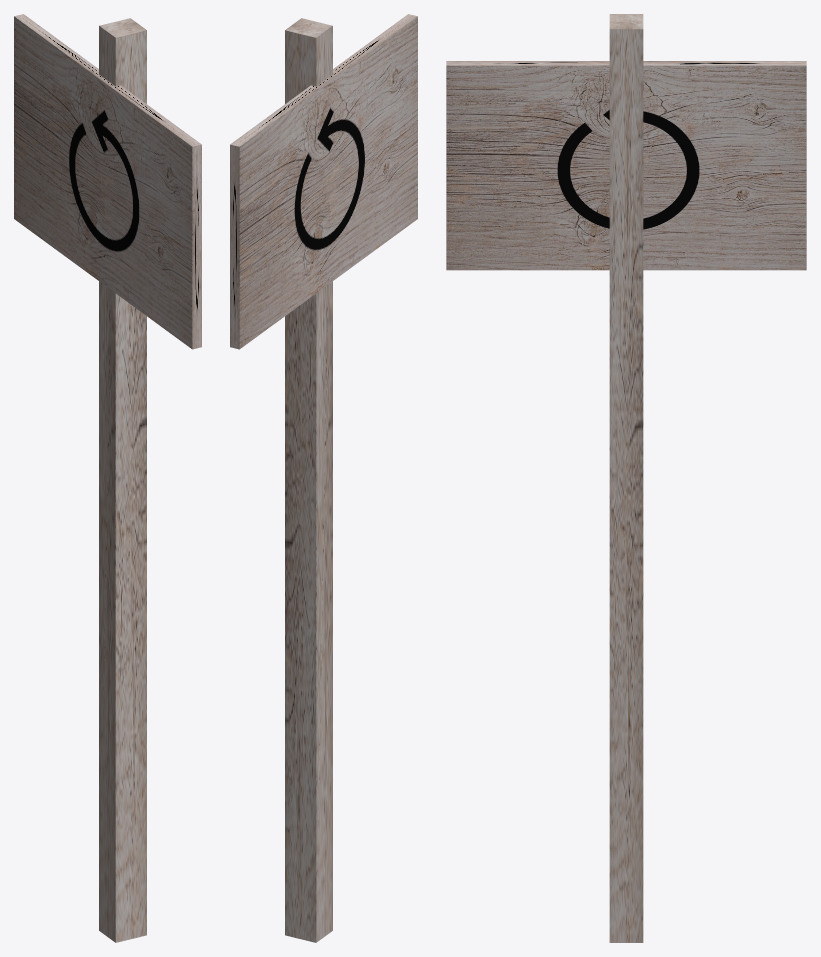
File: Schild Wdh.fbx
3 views of the same model, side by side, from view 1: azimuth 30°, elevation 25°; view 2: azimuth 150°, elevation 25°; view 3: azimuth 270°, elevation 25° (orthographic).
Visible parts, largest first — view 1: Cube__1_, Cube; view 2: Cube__1_, Cube; view 3: Cube__1_, Cube.
Part boxes in pixels (x1=…): Cube__1_: x1=14, y1=14, x2=201, y2=349; Cube: x1=99, y1=18, x2=146, y2=942; Cube__1_: x1=230, y1=14, x2=417, y2=349; Cube: x1=285, y1=18, x2=332, y2=942; Cube__1_: x1=446, y1=61, x2=806, y2=270; Cube: x1=609, y1=14, x2=643, y2=942.
Size of the model in its own units: 12.87 by 313 by 112.
